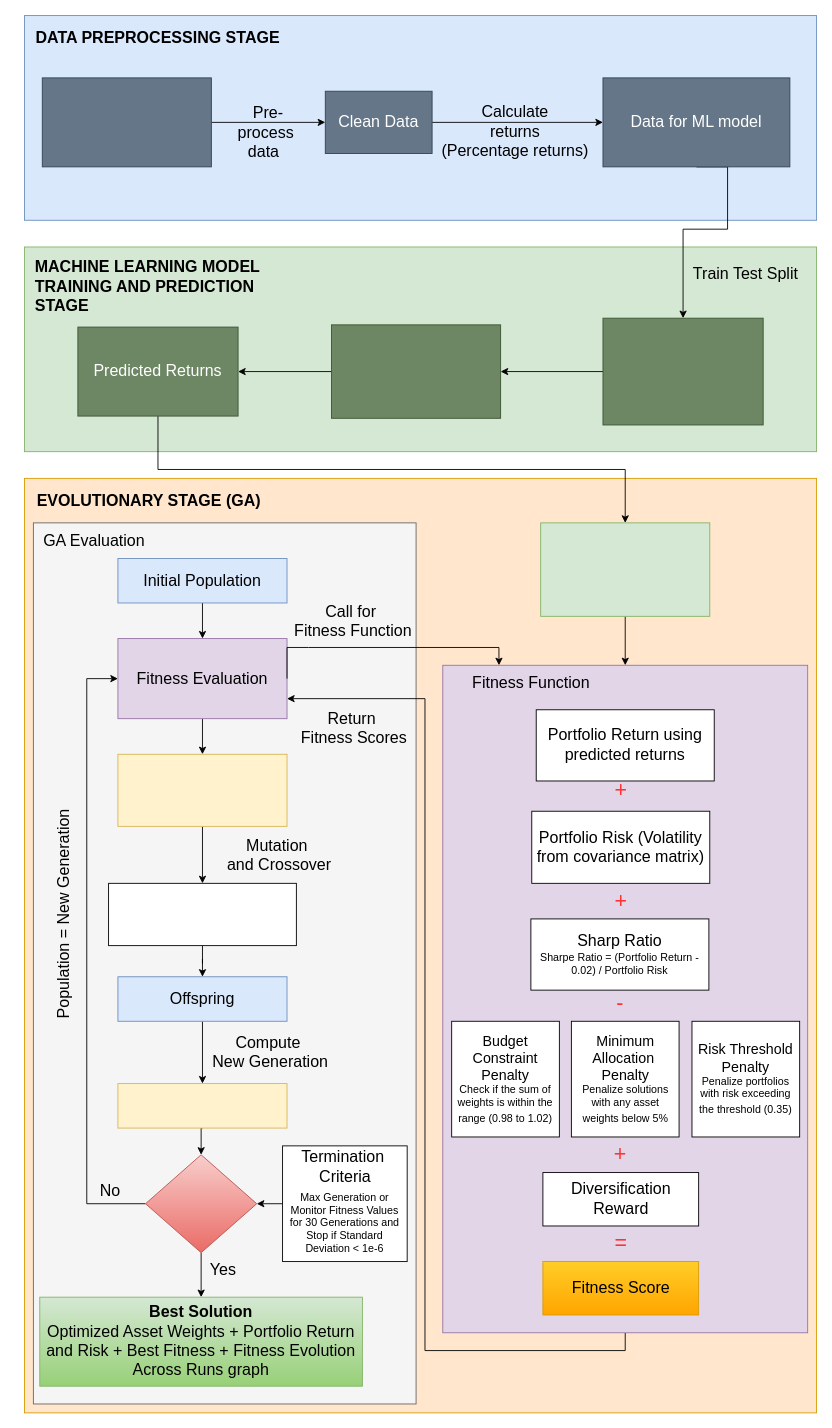
Image size: 832x1428. Some labels were removed from this diagram. Here are the shapes that lost their labels. From the top down, the box of each, then its label:
(41, 77, 211, 167): Fetch data from the Yahoo yfinance library
(331, 324, 501, 418): Predict Asset Returns
(602, 317, 763, 425): Train Random Forest Reggressor
(540, 522, 710, 616): Dataset for Fitness Function
(117, 753, 287, 826): Selection (Sorted individuals for reprodcution)
(108, 882, 296, 946): Normalization (sum weights ≈ 1 after every generation )
(117, 1083, 287, 1128): New Generation
(145, 1154, 257, 1253): Met Termination Criteria
